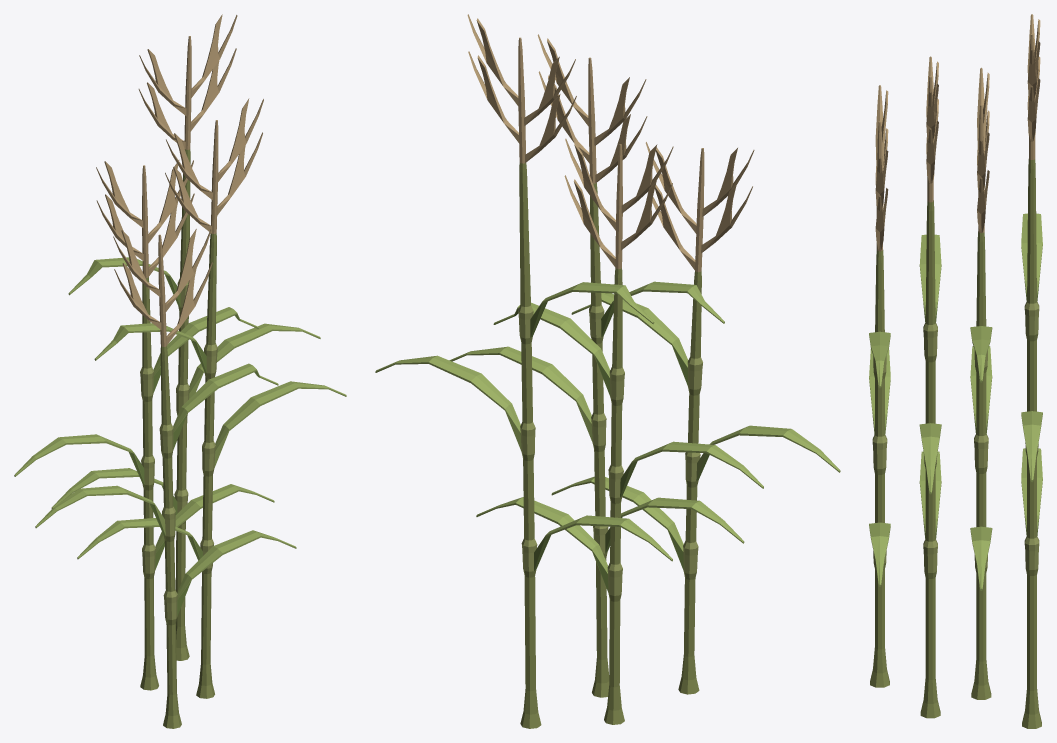
3 views of the same model, side by side, from view 1: azimuth 30°, elevation 25°; view 2: azimuth 150°, elevation 25°; view 3: azimuth 270°, elevation 25° (orthographic). The views are drawn at different scales.
Visible parts, largest first — view 1: ReedShoot_01, ReedShoot_02, ReedShoot_03, ReedShoot_04; view 2: ReedShoot_04, ReedShoot_03, ReedShoot_02, ReedShoot_01; view 3: ReedShoot_04, ReedShoot_02, ReedShoot_03, ReedShoot_01.
Boxes of the visible parts, left/top/right/bottom form: ReedShoot_01: left=35, top=229, right=296, bottom=728; ReedShoot_02: left=77, top=98, right=346, bottom=698; ReedShoot_03: left=14, top=160, right=274, bottom=690; ReedShoot_04: left=51, top=14, right=320, bottom=660; ReedShoot_04: left=375, top=14, right=672, bottom=728; ReedShoot_03: left=476, top=138, right=763, bottom=724; ReedShoot_02: left=449, top=34, right=744, bottom=697; ReedShoot_01: left=551, top=142, right=840, bottom=694; ReedShoot_04: left=1021, top=14, right=1042, bottom=728; ReedShoot_02: left=919, top=56, right=941, bottom=718; ReedShoot_03: left=970, top=67, right=992, bottom=699; ReedShoot_01: left=869, top=85, right=890, bottom=687.
Size of the model in its own units: 1.26 by 2.16 by 0.48.
